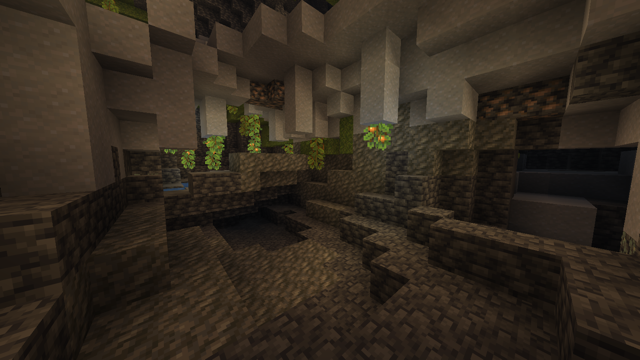iron: (476, 80, 568, 120), (247, 81, 284, 108)
